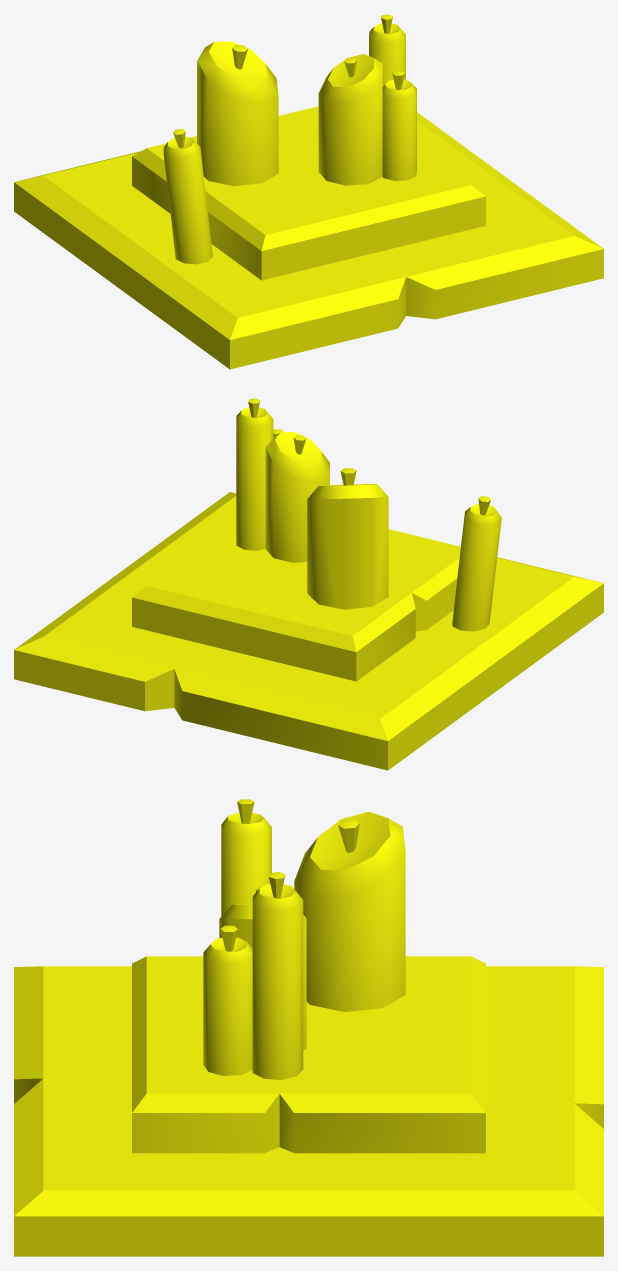
The model's file is kaykit-plaque-candles.glb.
3 renders of one model, top to bottom at view 1: azimuth 30°, elevation 25°; view 2: azimuth 150°, elevation 25°; view 3: azimuth 270°, elevation 25°, orthographic. The views are drawn at different scales.
Visible parts, largest first — view 1: plaque_candles; view 2: plaque_candles; view 3: plaque_candles.
Part boxes in pixels (<box>): plaque_candles: <box>14,14,603,369</box>; plaque_candles: <box>14,398,603,770</box>; plaque_candles: <box>14,799,603,1256</box>.
Size of the model in its own units: 2 by 1.13 by 2.
